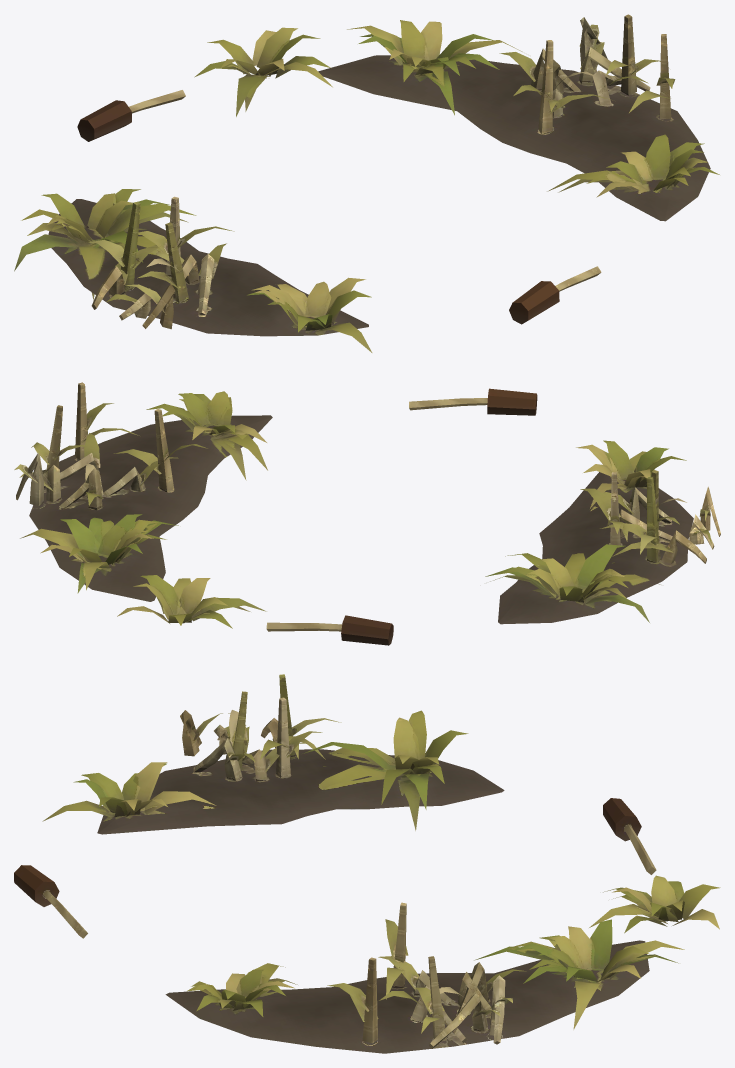
File: rough-marsh-2.hq.glb
The picture shows the model from 3 angles, top to bottom: view 1: azimuth 30°, elevation 25°; view 2: azimuth 150°, elevation 25°; view 3: azimuth 270°, elevation 25°; orthographic projection. The views are drawn at different scales.
Parts seen in each view (by area): view 1: rough-marsh-2; view 2: rough-marsh-2; view 3: rough-marsh-2.
Part boxes in pixels (x1,y1,x2,y2): rough-marsh-2: (14, 14, 719, 352); rough-marsh-2: (14, 382, 720, 645); rough-marsh-2: (14, 674, 720, 1053).
Size of the model in its own units: 1.61 by 0.2406 by 1.49.
1 material, 1 textured.
